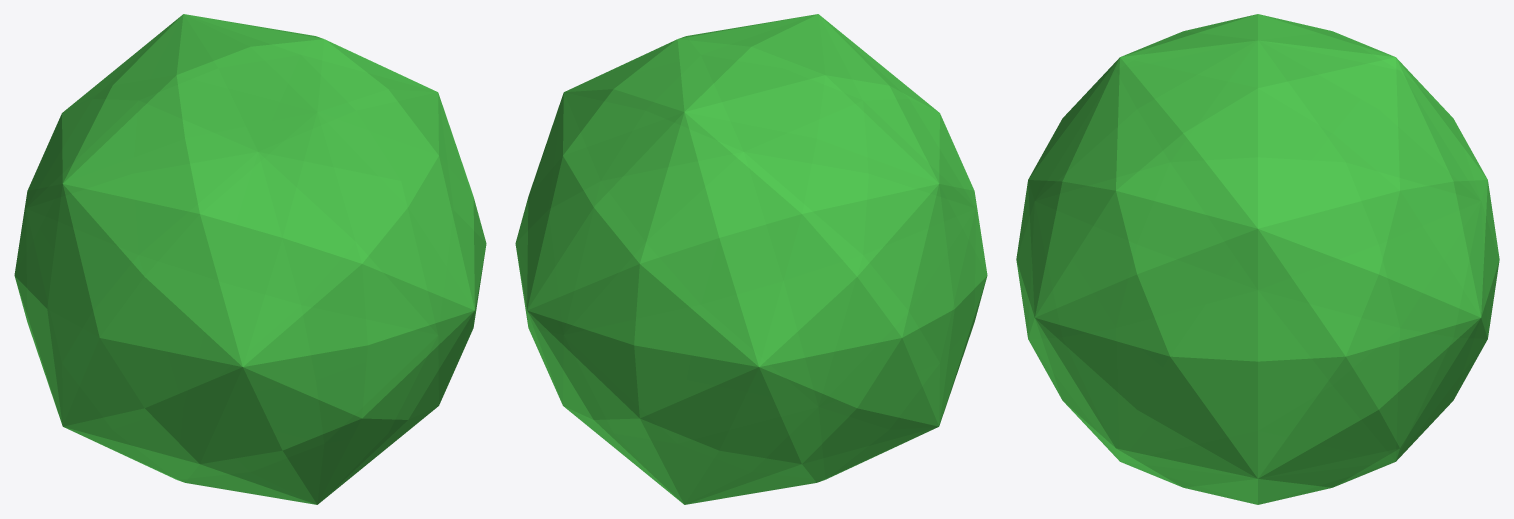
The model's file is DisdyakisTriacontahedron.obj.
The picture shows the model from 3 angles, left to right: view 1: azimuth 30°, elevation 25°; view 2: azimuth 150°, elevation 25°; view 3: azimuth 270°, elevation 25°; orthographic projection. The views are drawn at different scales.
Size of the model in its own units: 7.61 by 7.61 by 7.61.
